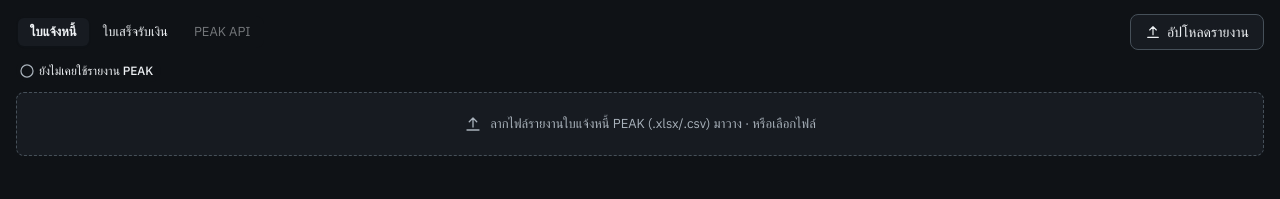
it: the two named uploads (D01) › says when the last receipt run failed, the way the invoice report does (fix-all P6)
Step 1. Click the radio button labelled "ใบเสร็จรับเงิน" → x=135, y=32, box [91,18,180,46]
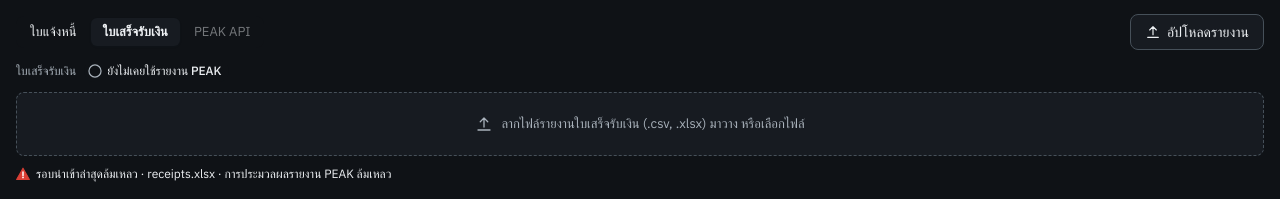
Check: the text "receipts.xlsx · การประมวลผลรายงาน PEAK ล้มเหลว" is shown, box [36,166,392,181]
